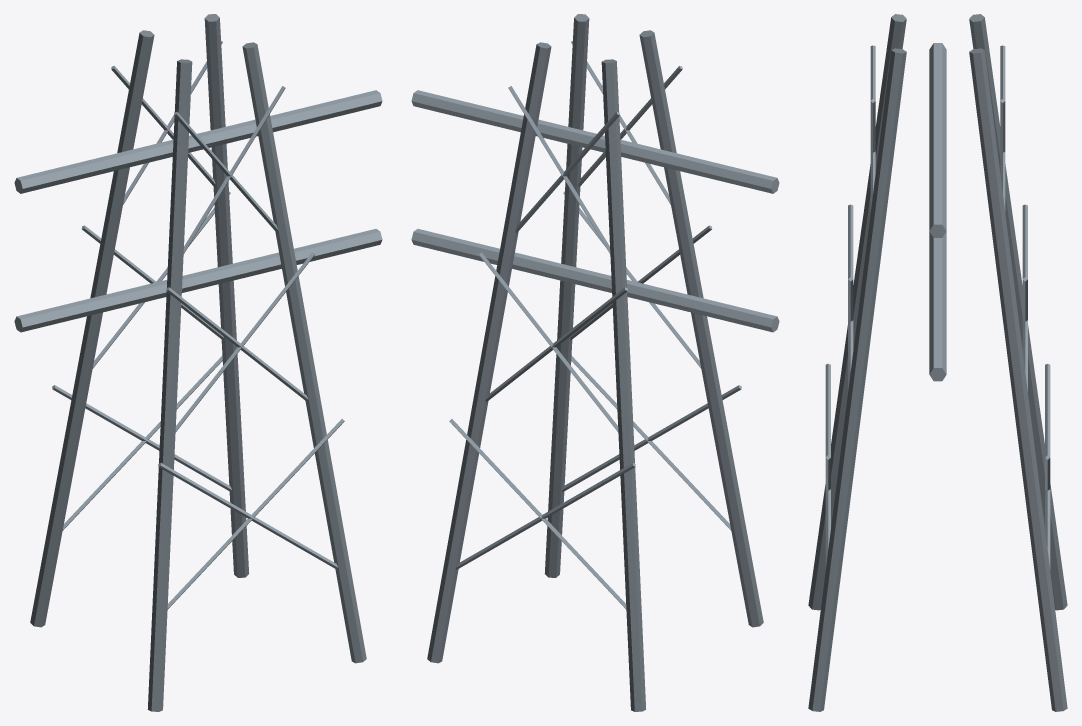
Rendered from source.glb.
3 renders of one model, left to right at view 1: azimuth 30°, elevation 25°; view 2: azimuth 150°, elevation 25°; view 3: azimuth 270°, elevation 25°, orthographic. The views are drawn at different scales.
Visible parts, largest first — view 1: worldgen; view 2: worldgen; view 3: worldgen.
Part boxes in pixels (bbox=[...]): worldgen: bbox=[14, 14, 382, 711]; worldgen: bbox=[411, 14, 779, 711]; worldgen: bbox=[808, 14, 1067, 711].
Size of the model in its own units: 30 by 48.18 by 18.09.
